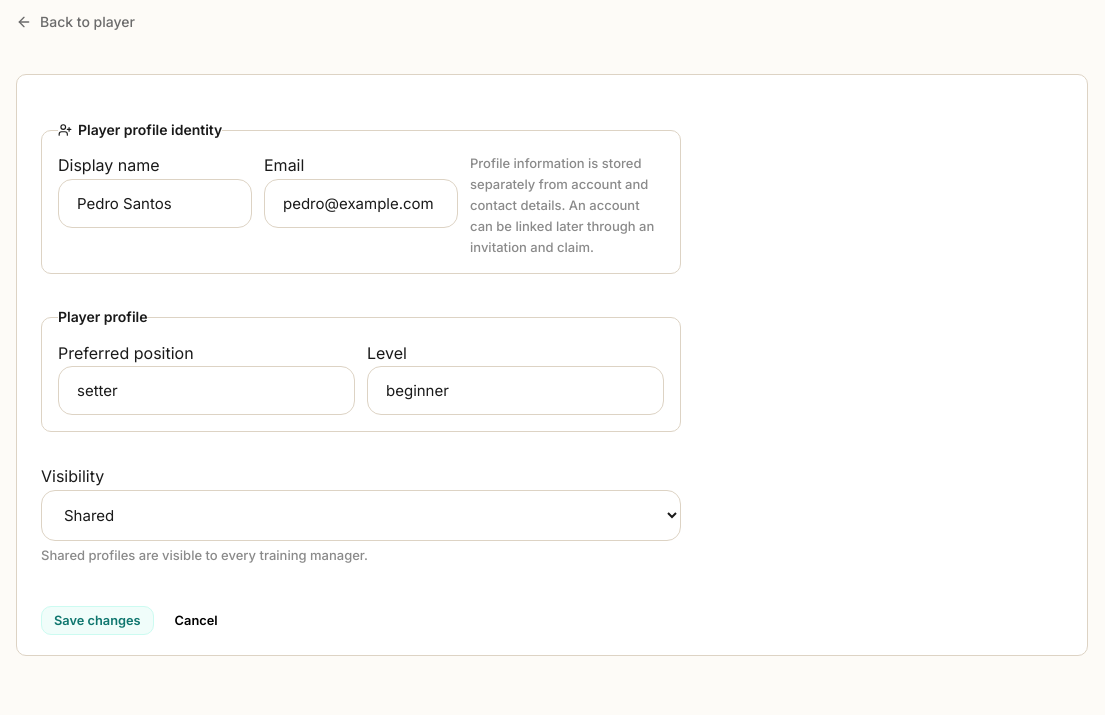
Scenario: Profile edit page › PATCHes profile attributes only
Replace the text in the field labelled "Level" with "advanced" at coordinates (516, 391), box 367,366 -> 664,415
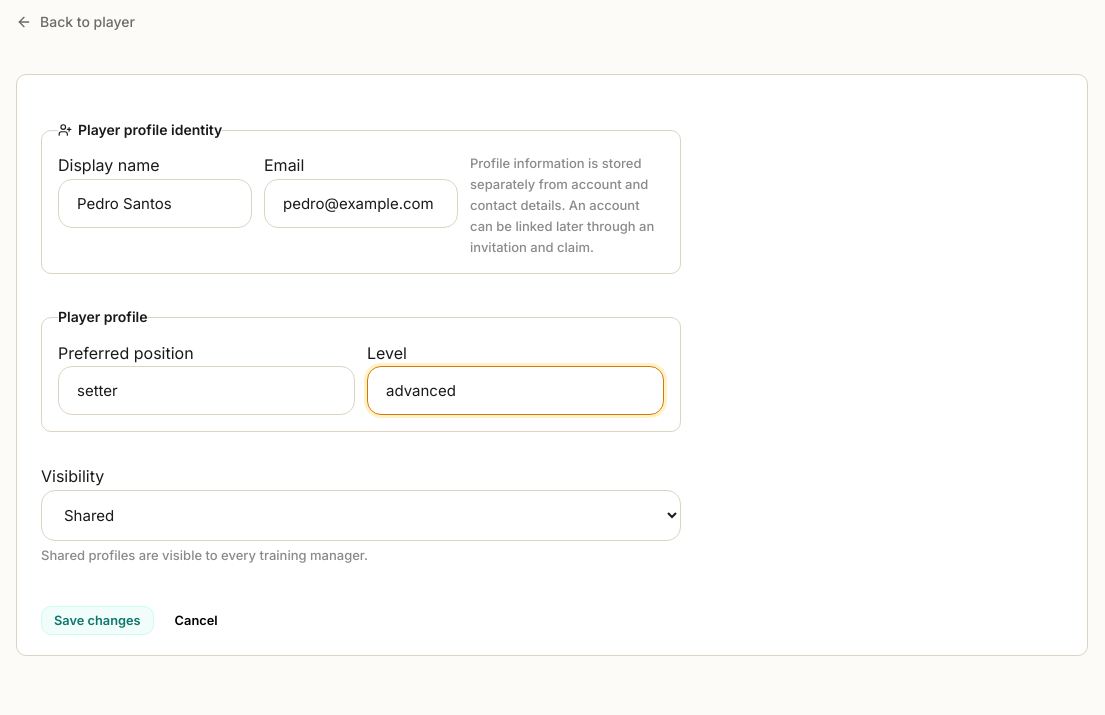
Click the button "Save changes" at coordinates (97, 620), box 41,606 -> 154,635
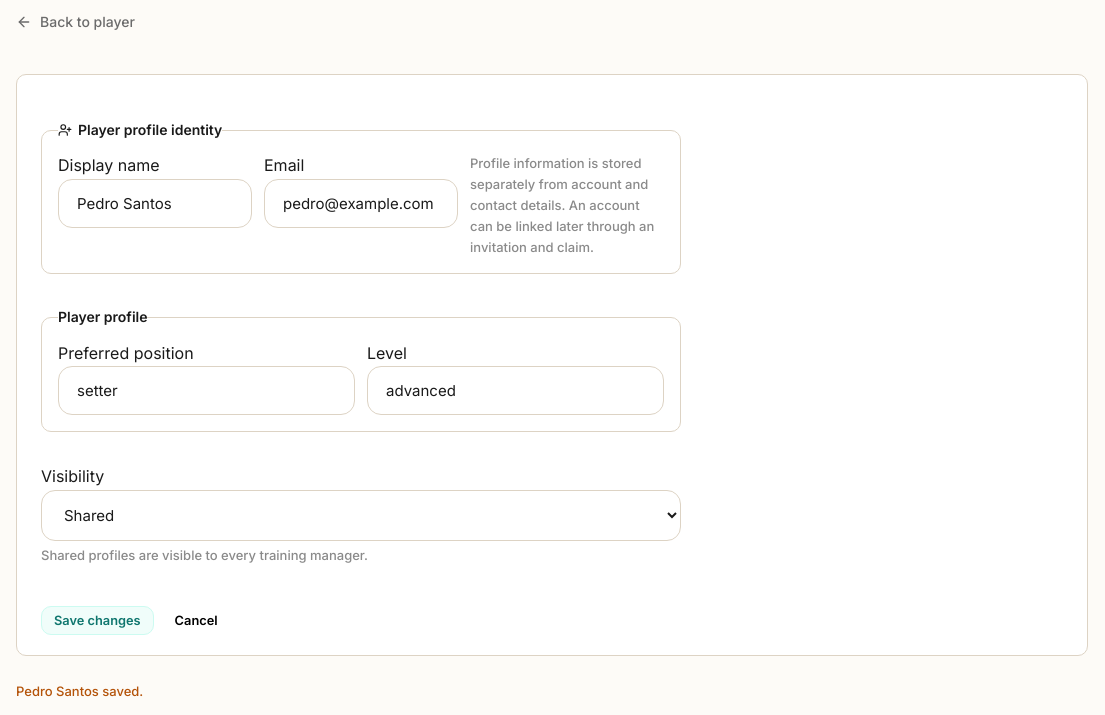
Check: the text "Pedro Santos saved." is shown, box 16,683 -> 143,699
